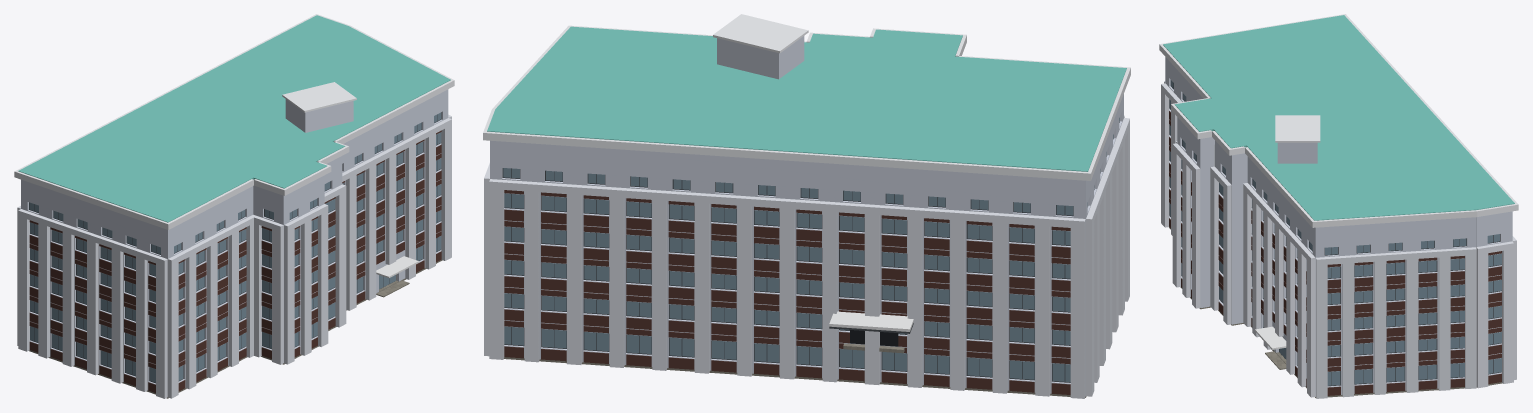
3 renders of one model, left to right at view 1: azimuth 30°, elevation 25°; view 2: azimuth 150°, elevation 25°; view 3: azimuth 270°, elevation 25°, orthographic. The views are drawn at different scales.
Parts seen in each view (by area): view 1: classroom__pier, classroom__greenroof, classroom__white, classroom__spandrel, classroom__glass, classroom__fascia, classroom__darkframe, classroom__canopy, classroom__stone; view 2: classroom__greenroof, classroom__pier, classroom__white, classroom__spandrel, classroom__glass, classroom__fascia, classroom__darkframe, classroom__stone, classroom__canopy; view 3: classroom__greenroof, classroom__pier, classroom__white, classroom__spandrel, classroom__glass, classroom__fascia, classroom__darkframe, classroom__canopy, classroom__stone.
Boxes of the visible parts, x1,y1,x2,y2 form: classroom__pier: (17,114,451,398); classroom__greenroof: (18,15,450,222); classroom__white: (21,89,448,396); classroom__spandrel: (29,130,441,392); classroom__glass: (29,112,441,382); classroom__fascia: (14,14,454,229); classroom__darkframe: (29,112,441,383); classroom__canopy: (376,256,418,278); classroom__stone: (29,260,442,398); classroom__greenroof: (487,26,1126,171); classroom__pier: (484,115,1129,398); classroom__white: (490,36,1123,395); classroom__spandrel: (504,190,1070,394); classroom__glass: (503,117,1119,382); classroom__fascia: (483,14,1130,180); classroom__darkframe: (502,122,1119,382); classroom__stone: (504,343,1086,397); classroom__canopy: (829,311,913,331); classroom__greenroof: (1163,15,1514,220); classroom__pier: (1161,81,1516,398); classroom__white: (1165,57,1512,396); classroom__spandrel: (1169,111,1501,395); classroom__glass: (1169,80,1501,385); classroom__fascia: (1159,14,1518,227); classroom__darkframe: (1169,82,1501,386); classroom__canopy: (1255,326,1286,349); classroom__stone: (1169,227,1502,397).
Bounding box in the file's own units: 61.55 × 27.91 × 44.92.
11 materials, 3 textured.
